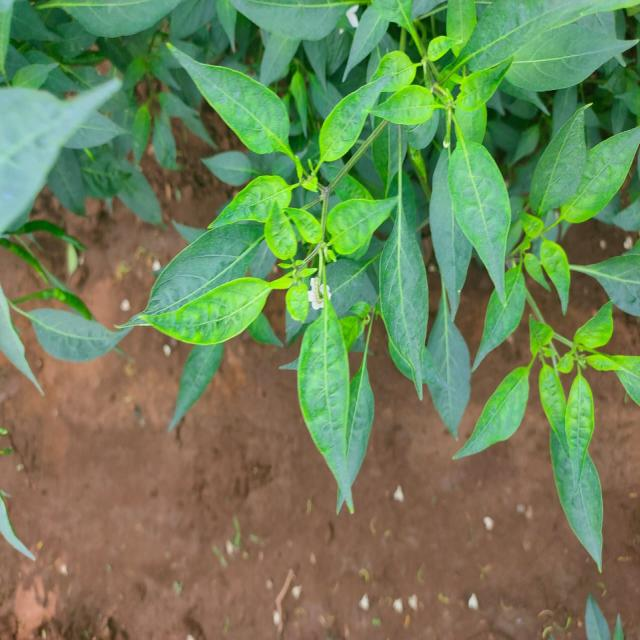Mosaic_virus: (0, 0, 640, 517)
